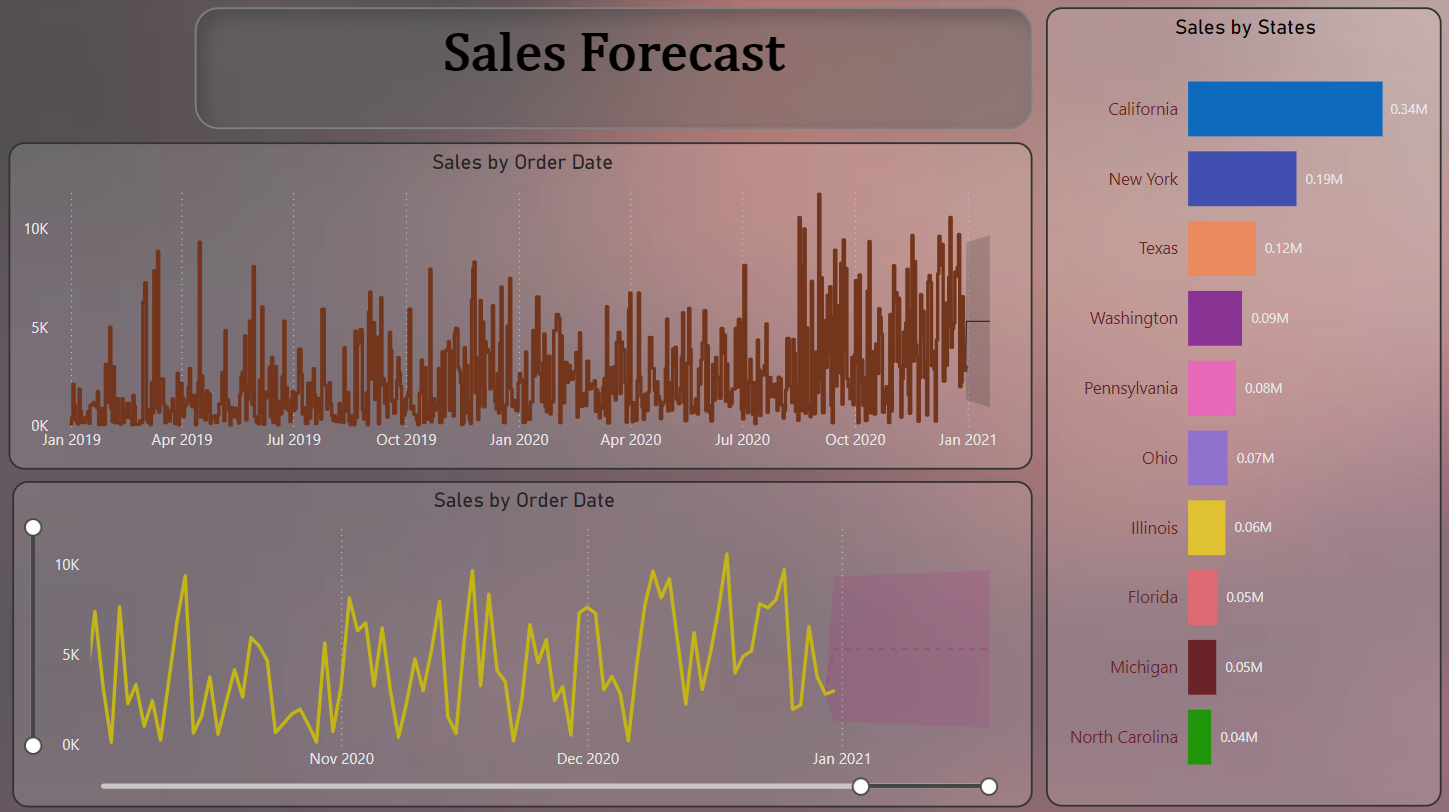

The dashboard page shown, as its layout file describes it:
{"tool":"powerbi","page":{"name":"Page 2","canvas":[1280,720],"ordinal":1},"visuals":[{"type":"lineChart","title":" Sales by Order Date","fields":{"Category":["Sheet1.Order Date"],"Y":["Sum(Sheet1.Sales)"]},"box":[10.7,128.6,901.2,288.1],"z":0},{"type":"lineChart","title":"Sales by Order Date","fields":{"Category":["Sheet1.Order Date"],"Y":["Sum(Sheet1.Sales)"]},"box":[14.3,426.2,897.6,286.9],"z":1000},{"type":"textbox","box":[175,9.5,736.9,107.1],"z":1001},{"type":"clusteredBarChart","title":" Sales by States","fields":{"Y":["Sum(Sheet1.Sales)"],"Category":["Sheet1.State"]},"box":[923.8,9.5,347.6,703.6],"z":1002}]}

Visuals, with their boxes in screenshot pixels (x1, y1, x2, y2), scaled from the page's 1280x720 canvas onto the 1449x812 screenshot:
" Sales by Order Date" lineChart: {"left": 12, "top": 145, "right": 1032, "bottom": 470}
"Sales by Order Date" lineChart: {"left": 16, "top": 481, "right": 1032, "bottom": 804}
textbox: {"left": 198, "top": 11, "right": 1032, "bottom": 131}
" Sales by States" clusteredBarChart: {"left": 1046, "top": 11, "right": 1439, "bottom": 804}
